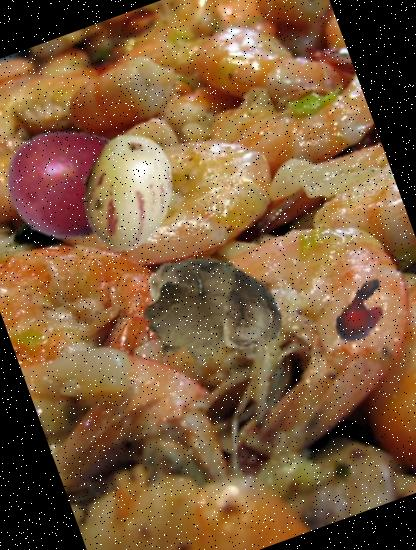Banana: (315, 264, 409, 358)
Cherry: (0, 91, 165, 269)
Ginger: (126, 210, 308, 392), (126, 236, 274, 383)
Pepino: (54, 116, 203, 266)
